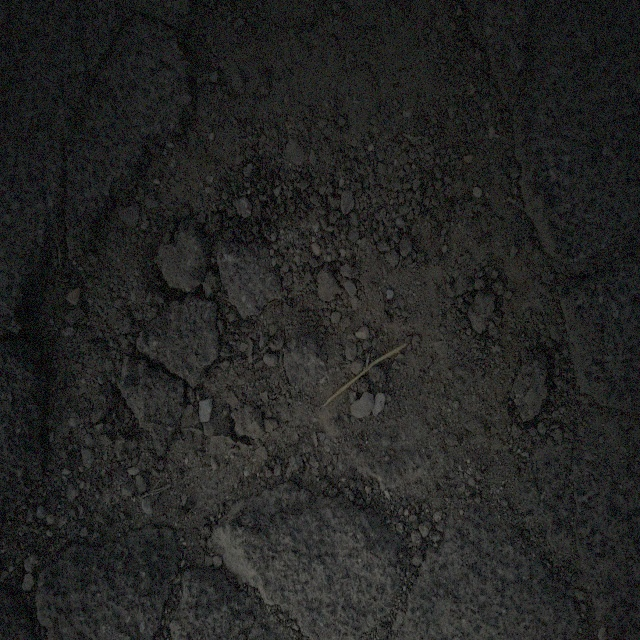pothole: (89, 19, 589, 586)
